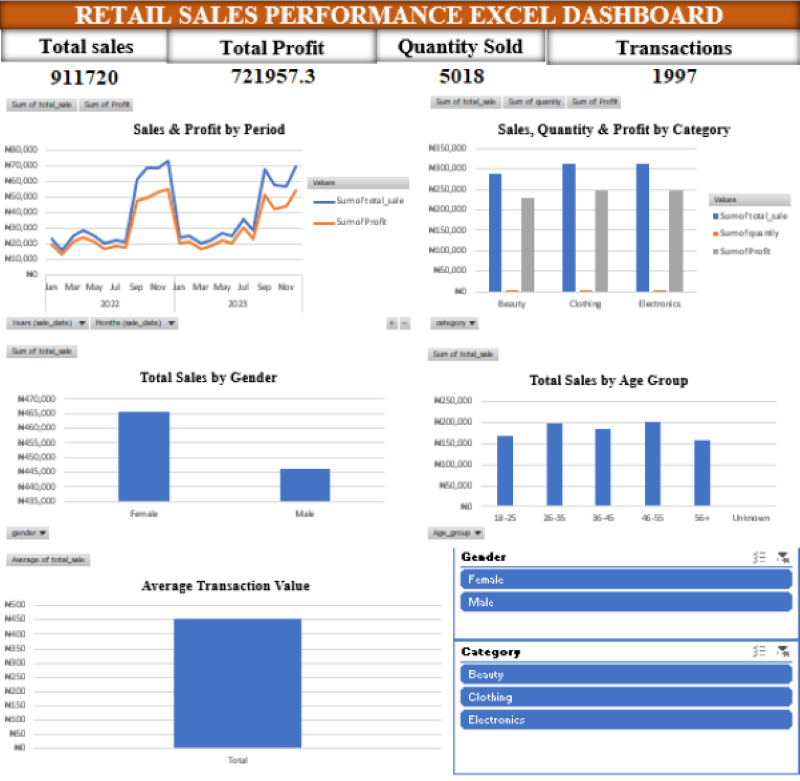

The dashboard page shown, as its layout file describes it:
{"tool":"powerbi","page":{"name":"RETAIL SALES INTERACTIVE DASHBOARD ","canvas":[1280,720],"ordinal":0},"visuals":[{"type":"card","title":"TOTAL SALES ","fields":{"Values":["Sum(Retail_Sales_cleaned.total_sale)"]},"box":[0,72.8,200.6,121.3],"z":0},{"type":"card","title":"TOTAL PROFIT ","fields":{"Values":["Sum(Retail_Sales_cleaned.Profit)"]},"box":[200.6,72.8,218.4,121.3],"z":1000},{"type":"card","title":"TRANSACTION","fields":{"Values":["CountNonNull(Retail_Sales_cleaned.transactions_id)"]},"box":[622.9,72.8,203.9,121.3],"z":2000},{"type":"card","title":"QUANTITY SOLD","fields":{"Values":["Sum(Retail_Sales_cleaned.quantiy)"]},"box":[826.8,72.8,184.4,121.3],"z":3000},{"type":"lineChart","title":"Sales and Profit Trend by period","fields":{"Y":["Sum(Retail_Sales_cleaned.total_sale)","Sum(Retail_Sales_cleaned.Profit)"],"Category":["Retail_Sales_cleaned.sale_date.Variation.Date Hierarchy.Year","Retail_Sales_cleaned.sale_date.Variation.Date Hierarchy.Month"]},"box":[1.6,213.6,398,207.1],"z":4000},{"type":"clusteredColumnChart","title":"Sales, Quantity and Profit by Category","fields":{"Category":["Retail_Sales_cleaned.category"],"Y":["Sum(Retail_Sales_cleaned.total_sale)","Sum(Retail_Sales_cleaned.Profit)","Sum(Retail_Sales_cleaned.quantiy)"]},"box":[399.6,213.6,325.2,221.7],"z":5000},{"type":"clusteredColumnChart","title":"Sales by Gender","fields":{"Category":["Retail_Sales_cleaned.gender"],"Y":["Sum(Retail_Sales_cleaned.total_sale)"]},"box":[0,451.4,380.2,268.6],"z":6000},{"type":"clusteredColumnChart","title":"Transactions by Gender","fields":{"Category":["Retail_Sales_cleaned.gender"],"Y":["CountNonNull(Retail_Sales_cleaned.transactions_id)"]},"box":[380.2,451.4,326.8,268.6],"z":7000},{"type":"clusteredColumnChart","title":"Sales by Age Group","fields":{"Category":["Retail_Sales_cleaned.Age_group"],"Y":["Sum(Retail_Sales_cleaned.total_sale)"]},"box":[724.9,461.1,263.7,258.9],"z":8000},{"type":"clusteredColumnChart","title":"Sales and Profit Contribution by Category","fields":{"Category":["Retail_Sales_cleaned.category"],"Y":["Sum(Retail_Sales_cleaned.total_sale)","Sum(Retail_Sales_cleaned.Profit)"]},"box":[724.9,213.6,263.7,237.8],"z":9000},{"type":"card","title":"AVERAGE TRANSACTION VALUE","fields":{"Values":["Avg(Retail_Sales_cleaned.total_sale)"]},"box":[1014.5,72.8,265.3,121.3],"z":10000},{"type":"tableEx","title":"Top Customer Contribution","fields":{"Values":["Retail_Sales_cleaned.customer_id","Sum(Retail_Sales_cleaned.total_sale)","Sum(Retail_Sales_cleaned.Profit)"]},"box":[993.4,197.4,286.4,234.6],"z":11000},{"type":"slicer","title":"CATEGORY","fields":{"Values":["Retail_Sales_cleaned.category"]},"box":[998.3,561.4,132.7,158.6],"z":12000},{"type":"slicer","title":"YEAR","fields":{"Values":["Retail_Sales_cleaned.sale_date.Variation.Date Hierarchy.Year"]},"box":[995.1,435.2,135.9,126.2],"z":13000},{"type":"slicer","title":"GENDER","fields":{"Values":["Retail_Sales_cleaned.gender"]},"box":[1134.2,435.2,142.4,124.6],"z":14000},{"type":"slicer","title":"AGE_GROUP","fields":{"Values":["Retail_Sales_cleaned.Age_group"]},"box":[1134.2,561.4,145.6,158.6],"z":15000},{"type":"card","title":"PROFIT_MRGIN","fields":{"Values":["Retail_Sales_cleaned.Profit divided by total_sale"]},"box":[419.1,72.8,203.9,121.3],"z":16000},{"type":"textbox","box":[1.6,0,1276.6,72.8],"z":17000}]}

Visuals, with their boxes on the page's 1280x720 design canvas (x1, y1, x2, y2). These are canvas units, not pixel positions in the 800x781 screenshot, which may show the page scaled, cropped or inside an application window:
"TOTAL SALES " card: <box>0,73,201,194</box>
"TOTAL PROFIT " card: <box>201,73,419,194</box>
"TRANSACTION" card: <box>623,73,827,194</box>
"QUANTITY SOLD" card: <box>827,73,1011,194</box>
"Sales and Profit Trend by period" lineChart: <box>2,214,400,421</box>
"Sales, Quantity and Profit by Category" clusteredColumnChart: <box>400,214,725,435</box>
"Sales by Gender" clusteredColumnChart: <box>0,451,380,720</box>
"Transactions by Gender" clusteredColumnChart: <box>380,451,707,720</box>
"Sales by Age Group" clusteredColumnChart: <box>725,461,989,720</box>
"Sales and Profit Contribution by Category" clusteredColumnChart: <box>725,214,989,451</box>
"AVERAGE TRANSACTION VALUE" card: <box>1014,73,1280,194</box>
"Top Customer Contribution" tableEx: <box>993,197,1280,432</box>
"CATEGORY" slicer: <box>998,561,1131,720</box>
"YEAR" slicer: <box>995,435,1131,561</box>
"GENDER" slicer: <box>1134,435,1277,560</box>
"AGE_GROUP" slicer: <box>1134,561,1280,720</box>
"PROFIT_MRGIN" card: <box>419,73,623,194</box>
textbox: <box>2,0,1278,73</box>
